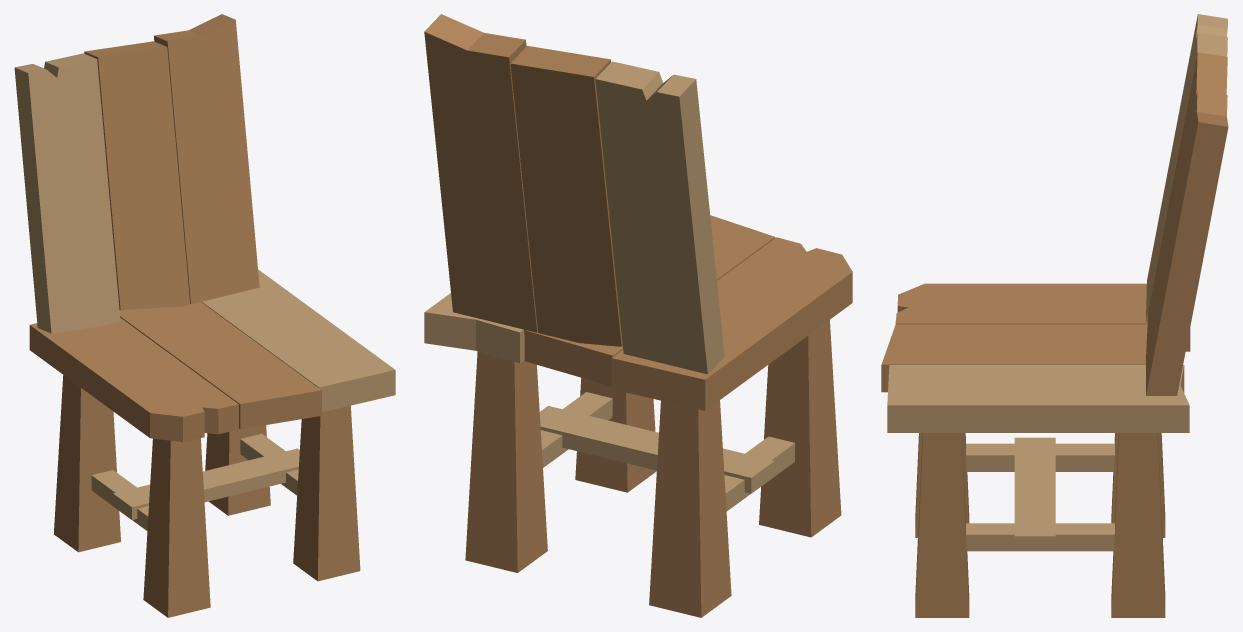
Rendered from chair_1.fbx.
3 views of the same model, side by side, from view 1: azimuth 30°, elevation 25°; view 2: azimuth 150°, elevation 25°; view 3: azimuth 270°, elevation 25° (orthographic). The views are drawn at different scales.
Visible parts, largest first — view 1: chair; view 2: chair; view 3: chair.
Part boxes in pixels (bbox=[...]): chair: bbox=[14, 14, 395, 617]; chair: bbox=[424, 14, 852, 617]; chair: bbox=[881, 14, 1228, 617].
Bounding box in the file's own units: 63.42 × 121 × 76.34.
